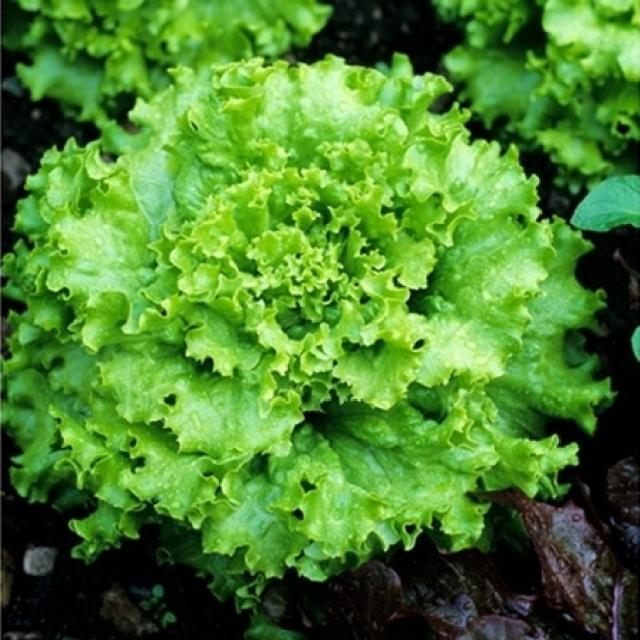Lettuce-Ready-to-Harvest: (0, 53, 598, 572)
